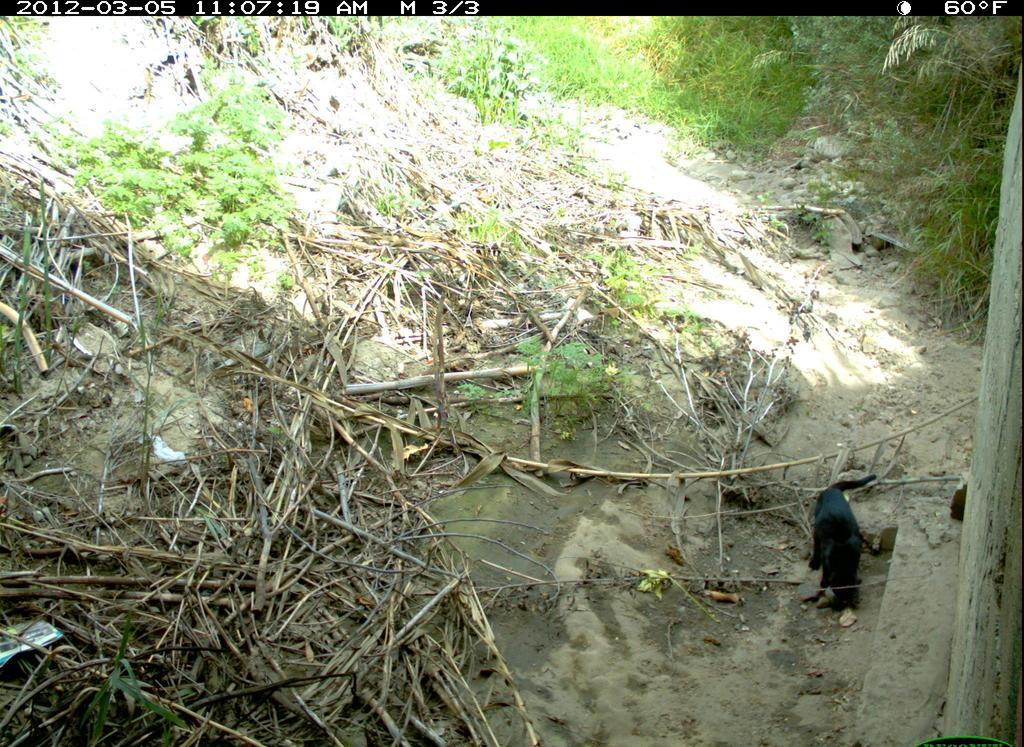cat: (803, 469, 885, 616)
